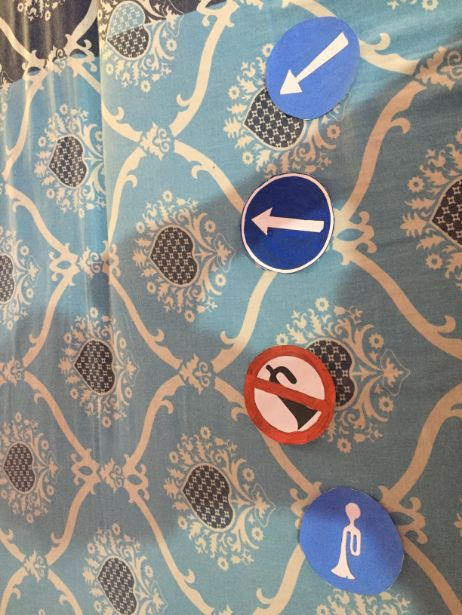blow-horn: (297, 488, 402, 592)
go-stright: (239, 173, 332, 275)
keep-left: (266, 17, 359, 117)
no-horn: (243, 348, 337, 446)
